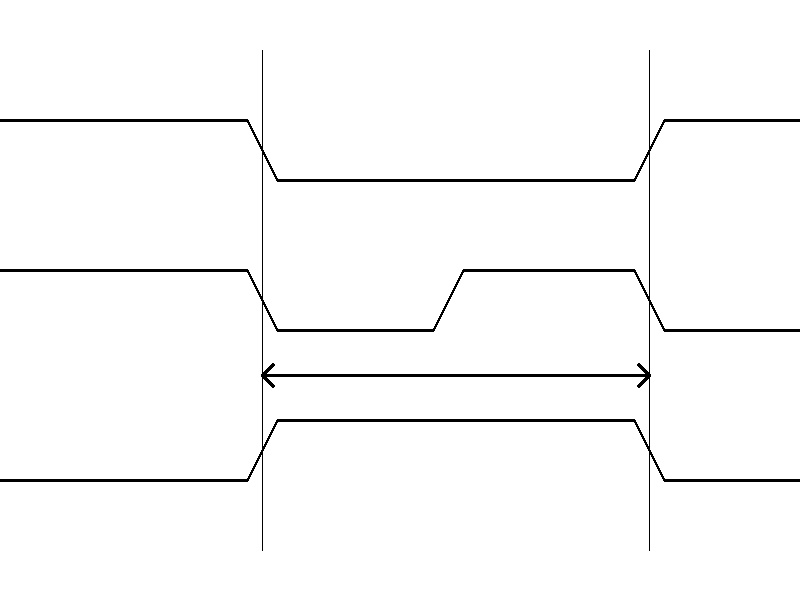double_arrow: (262, 360, 649, 390)
